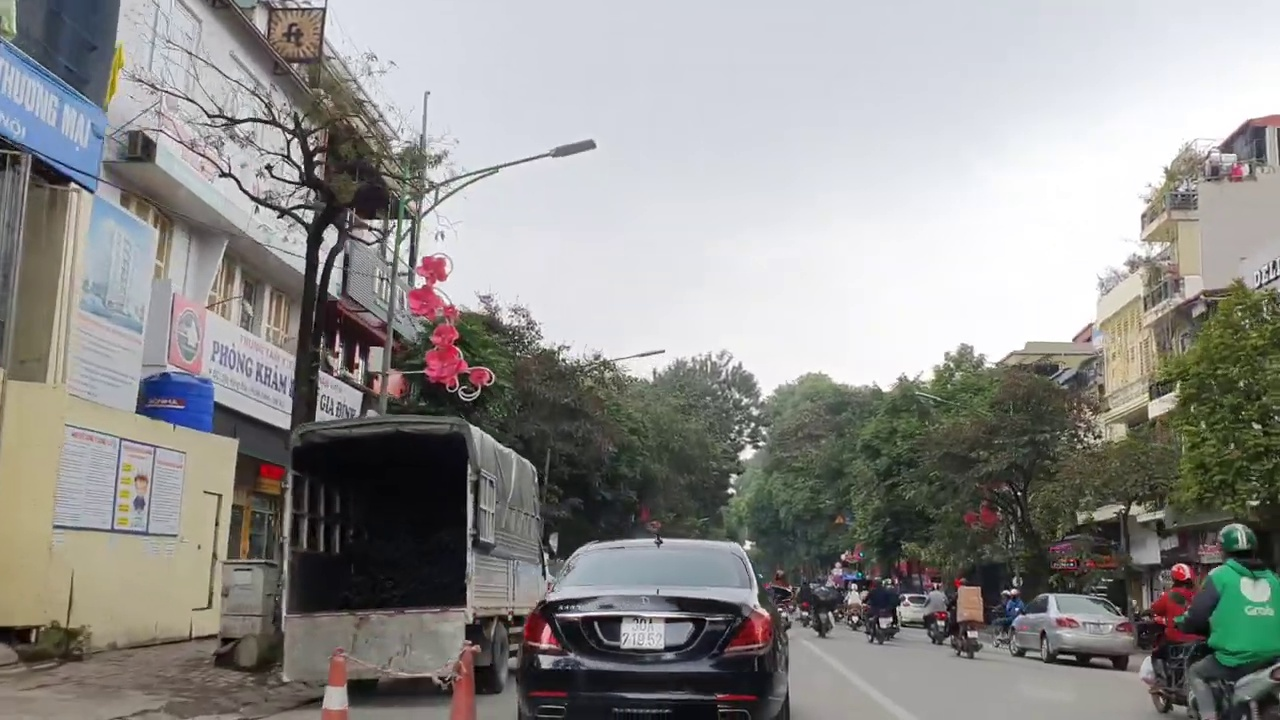vehicle-plate: (621, 615, 665, 648), (1086, 621, 1106, 636)
